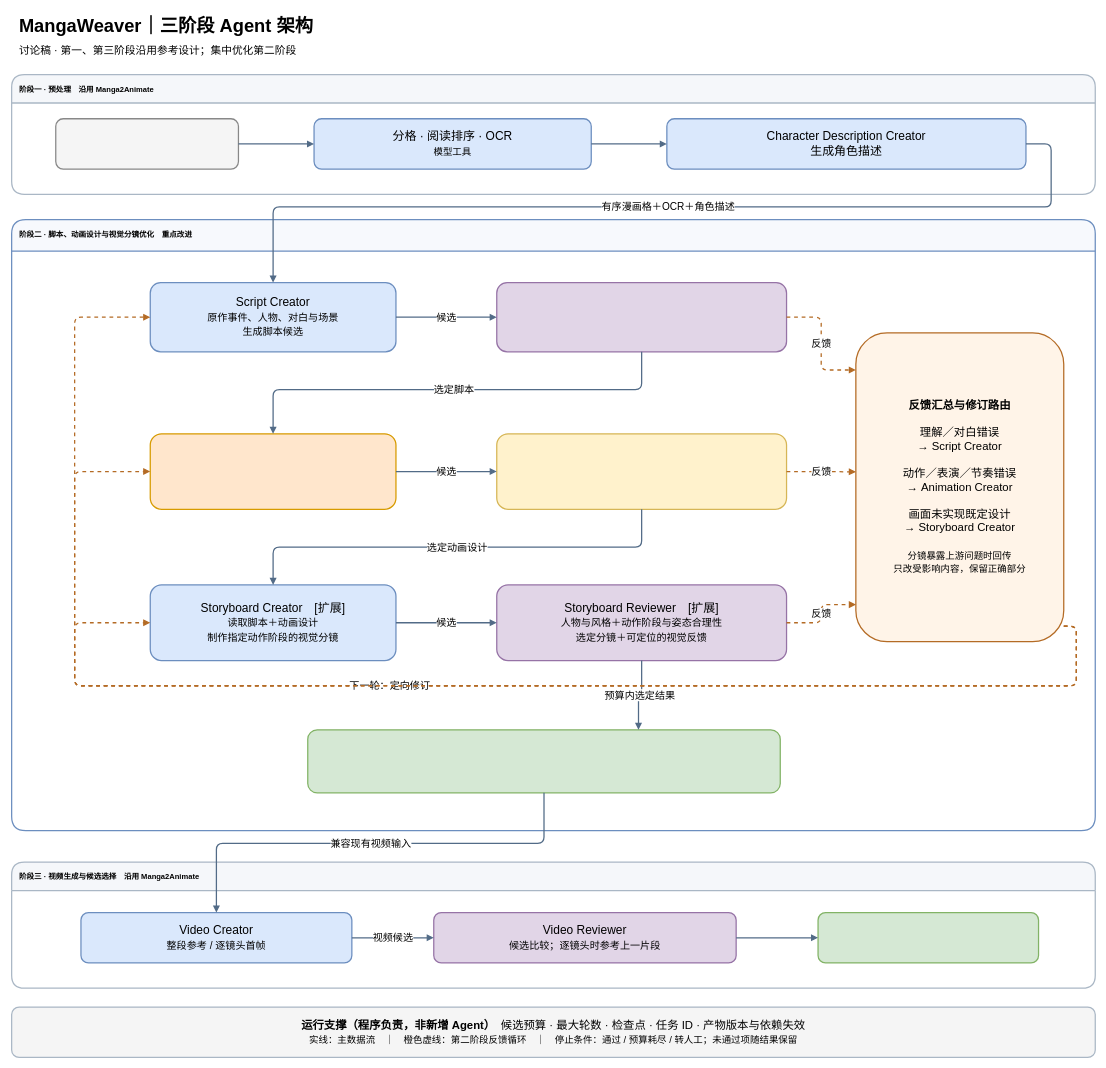
This 1106x1068 diagram has some shape labels left out. Here are the shapes that lost their labels. From the top down, the centre of each, then its label:
At (147,143): "漫画页面 角色参考图".
At (641,317): "Character Reviewer ＋ Clip Reviewer 原作忠实度审查 组合选定脚本＋问题记录".
At (272,471): "Animation Creator [新增] 动作阶段、表演、关键姿态、时间节奏 生成完整动作方案候选".
At (641,471): "Animation Reviewer [新增] 动作因果、空间关系、表演与节奏 选定设计＋阻断问题＋修订建议".
At (544,761): "版本绑定、依赖校验与兼容导出 脚本 ↔ 动画设计 ↔ 分镜成套保存 输出 bestScript.json ＋ bestStoryboard.png".
At (928,937): "选择 · 必要时拼接 最终动画".
